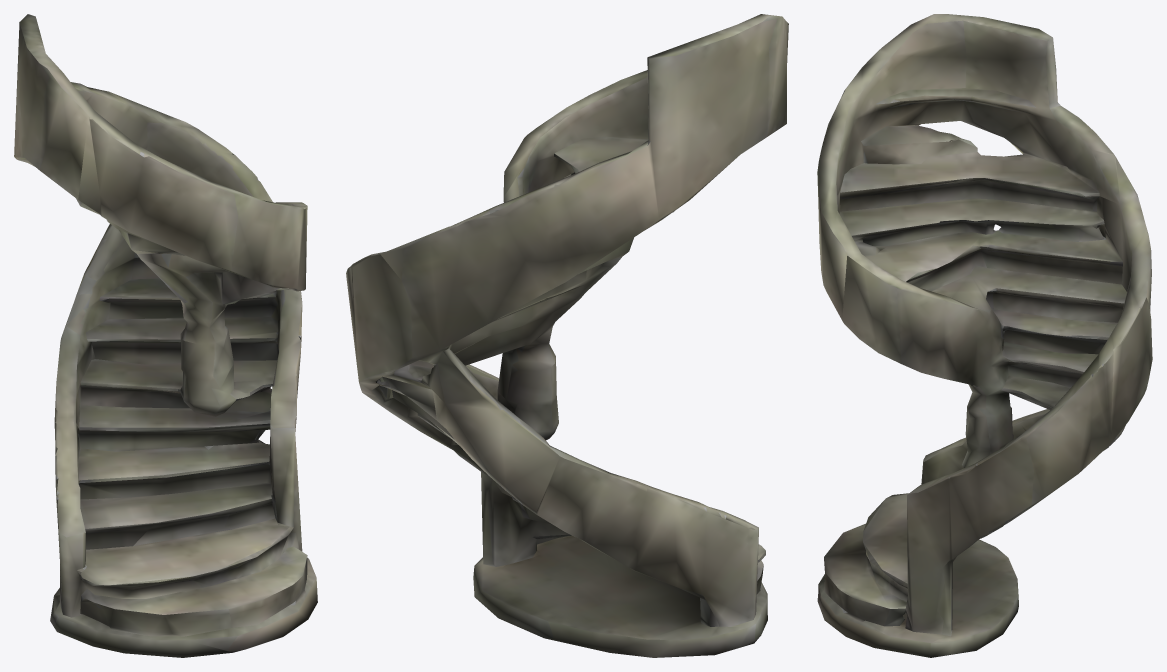
File: old-limestone-spiral-staircase-v001.glb
3 renders of one model, left to right at view 1: azimuth 30°, elevation 25°; view 2: azimuth 150°, elevation 25°; view 3: azimuth 270°, elevation 25°, orthographic. The views are drawn at different scales.
Visible parts, largest first — view 1: old-limestone-spiral-staircase; view 2: old-limestone-spiral-staircase; view 3: old-limestone-spiral-staircase.
Part boxes in pixels (x1=…): old-limestone-spiral-staircase: x1=14, y1=14, x2=317, y2=657; old-limestone-spiral-staircase: x1=346, y1=14, x2=788, y2=657; old-limestone-spiral-staircase: x1=817, y1=14, x2=1152, y2=657.
Bounding box in the file's own units: 1.76 × 3.11 × 1.8.
1 material, 1 textured.
